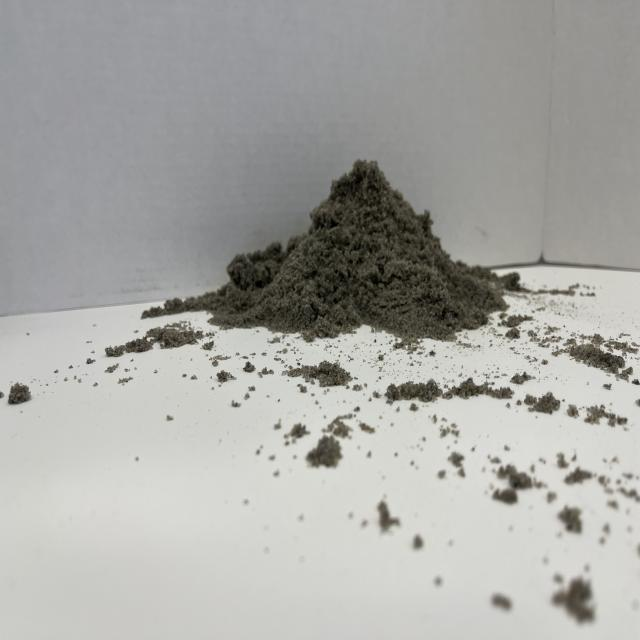sand: (200, 133, 494, 357)
